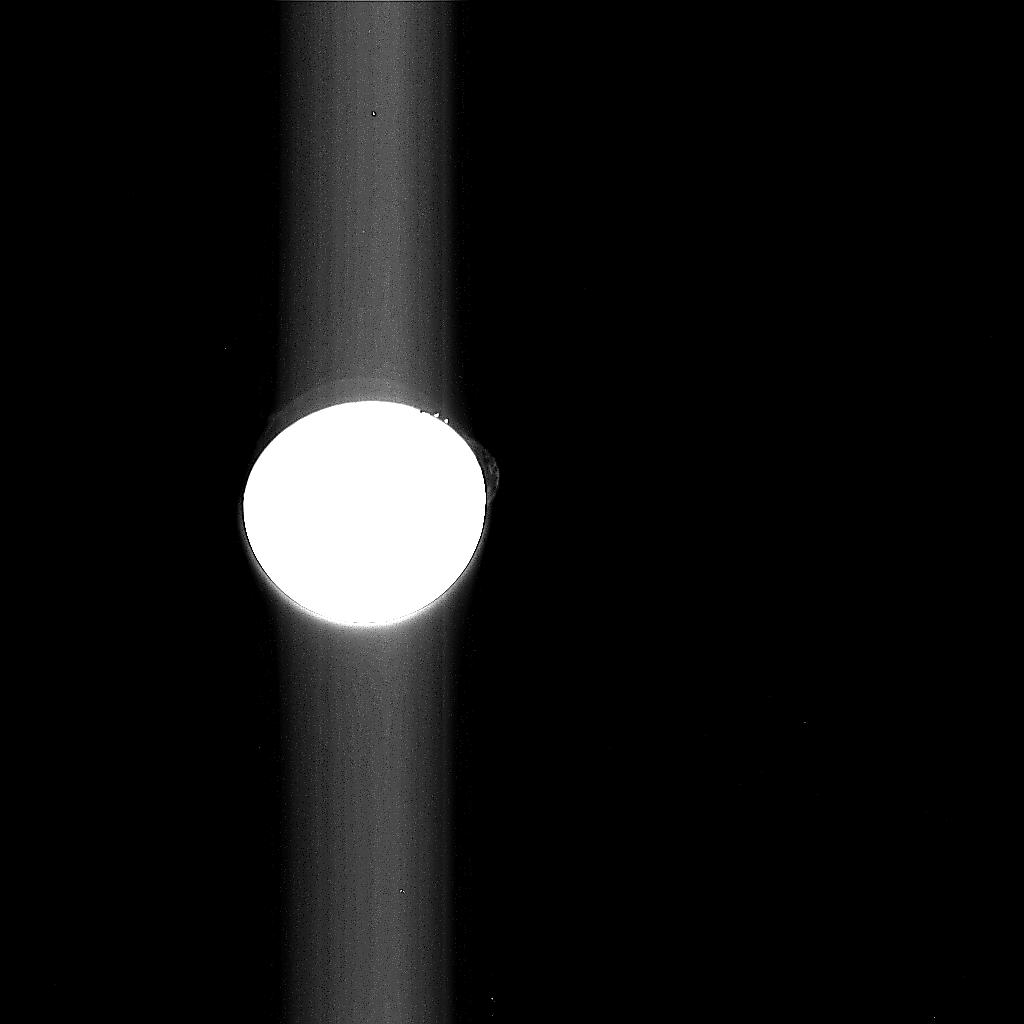plumes: (466, 435, 498, 508)
